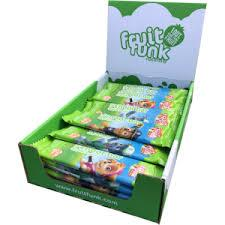Kertas: (108, 0, 198, 86)
Plastik: (43, 121, 165, 177), (75, 107, 167, 160), (71, 99, 174, 127), (104, 83, 188, 110)
